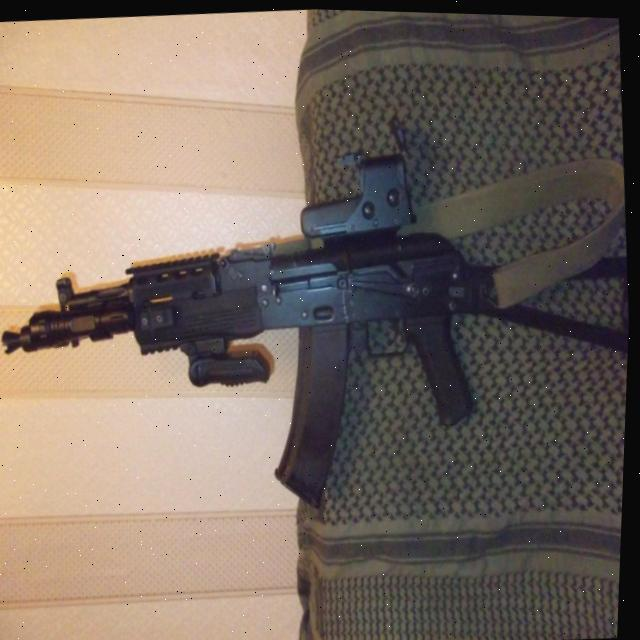firearm: (0, 120, 637, 539)
